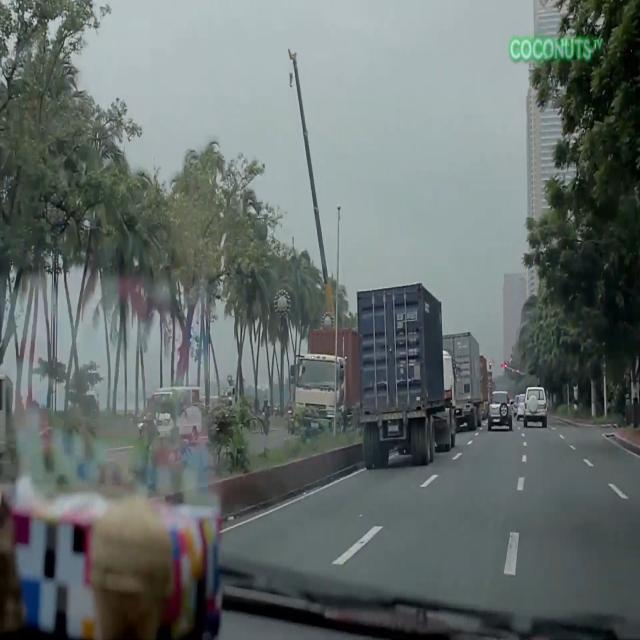truck: (356, 284, 459, 472), (294, 328, 359, 442), (442, 331, 484, 431)
